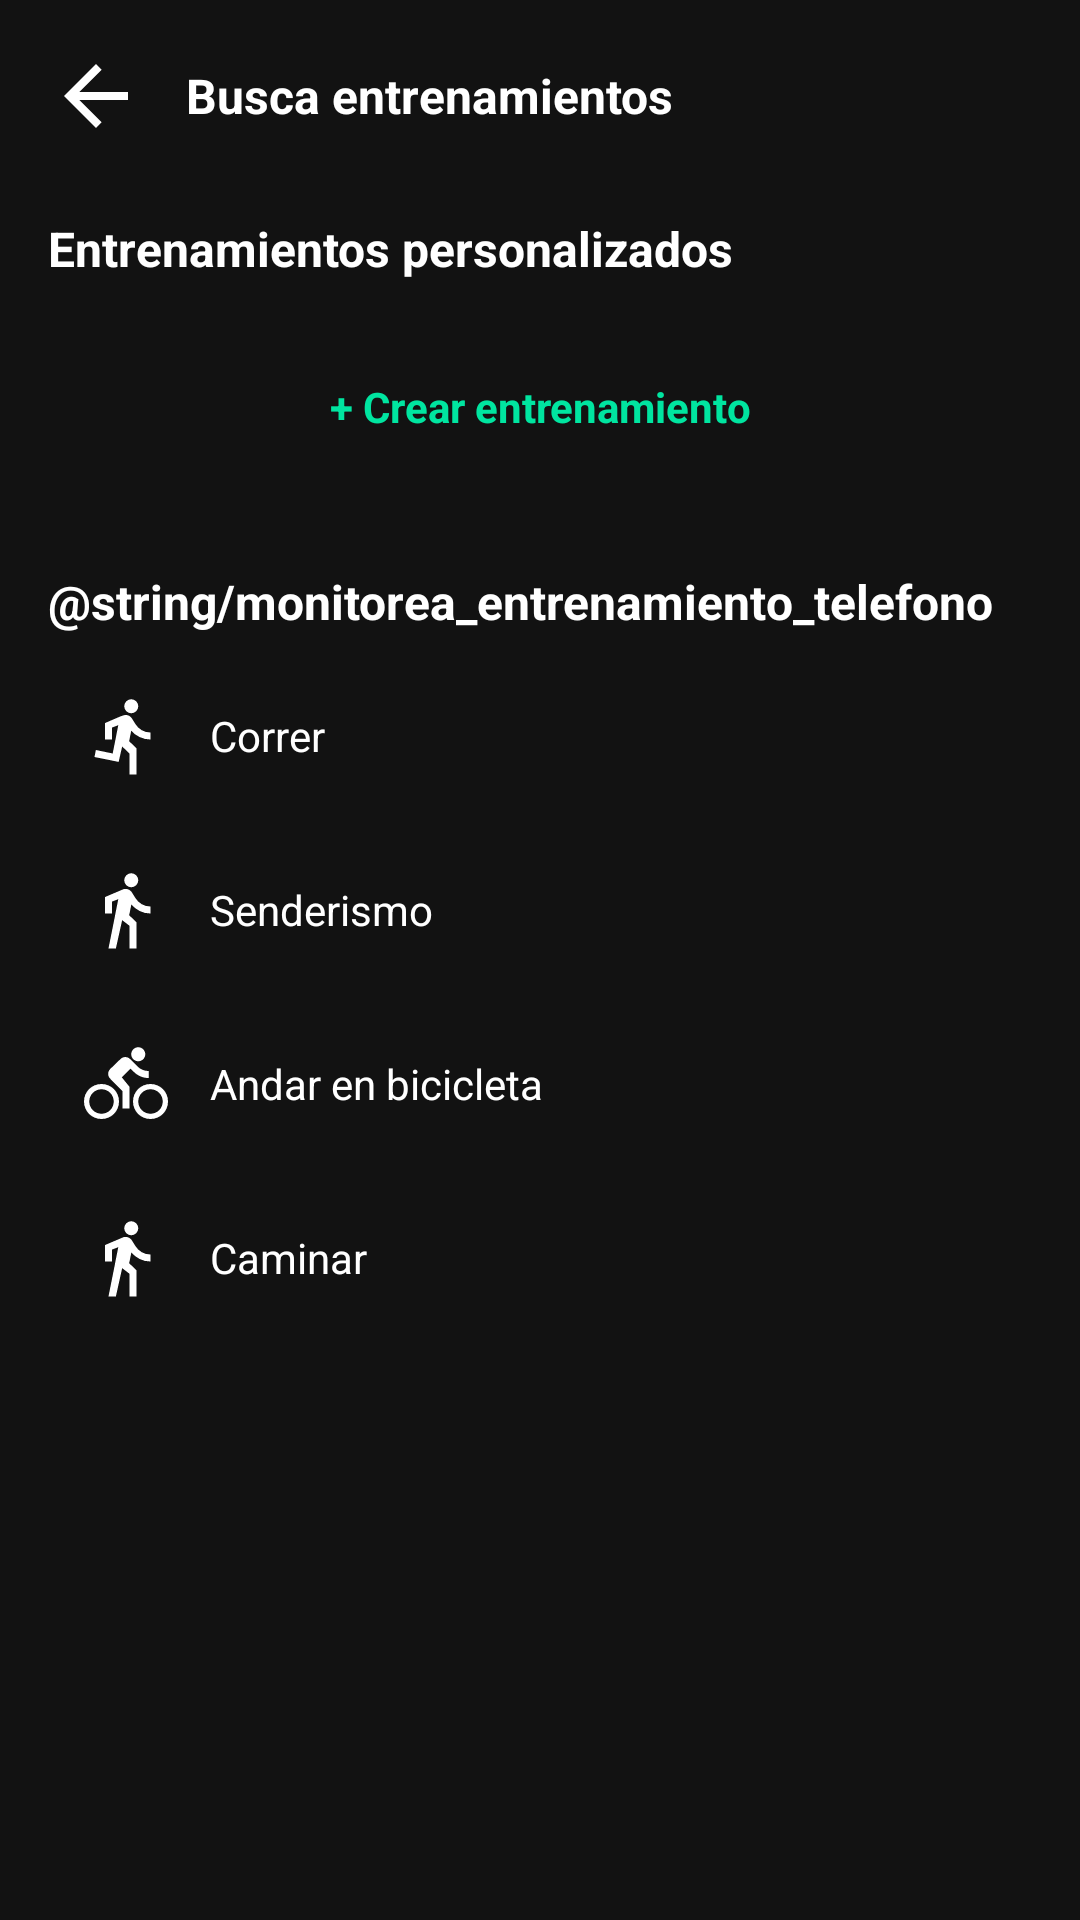

Screen size 1080px x 1920px. Icon name, then its box in pixels as BBox(x1, y1, x2, y2):
directions bike: BBox(84, 1047, 168, 1119)
directions run: BBox(94, 699, 151, 775)
directions walk: BBox(105, 873, 151, 949), BBox(105, 1221, 151, 1297)
Volver: BBox(64, 64, 128, 128)
